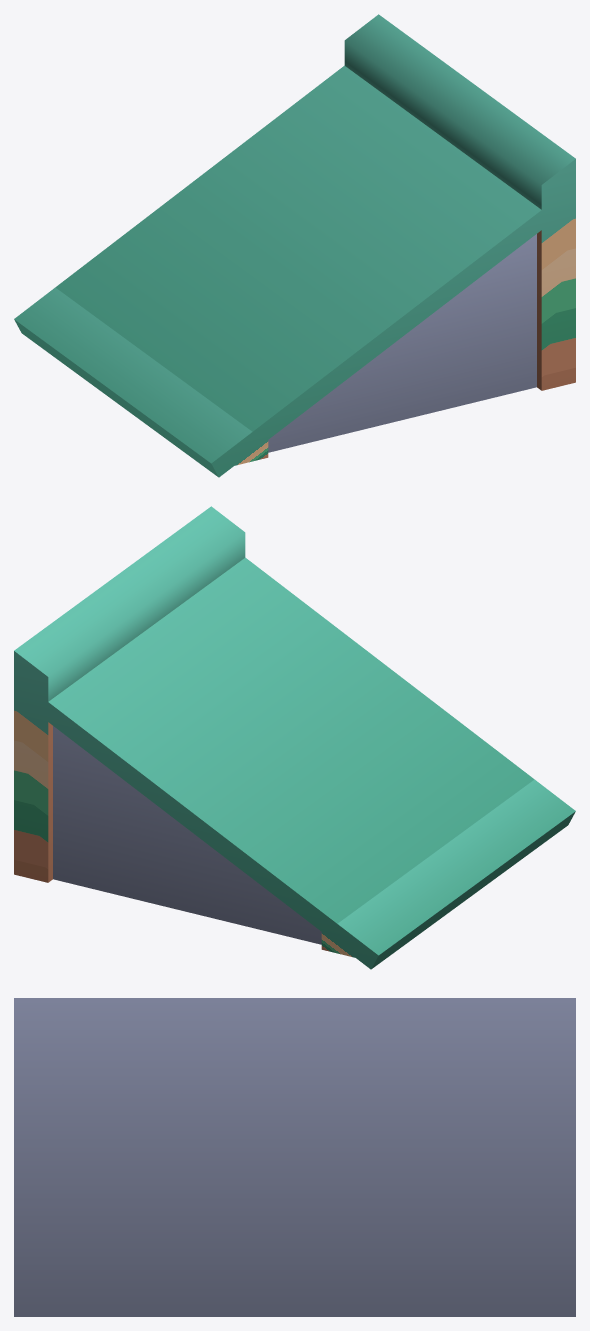
The model's file is roof.obj.
3 renders of one model, top to bottom at view 1: azimuth 30°, elevation 25°; view 2: azimuth 150°, elevation 25°; view 3: azimuth 270°, elevation 25°, orthographic. The views are drawn at different scales.
Parts seen in each view (by area): view 1: roof; view 2: roof; view 3: roof.
Boxes of the visible parts, x1,y1,x2,y2 form: roof: (14,14,575,477); roof: (14,506,575,969); roof: (14,998,575,1316).
Size of the model in its own units: 1.07 by 0.6483 by 1.
Materials: 1 (1 with a texture image).
